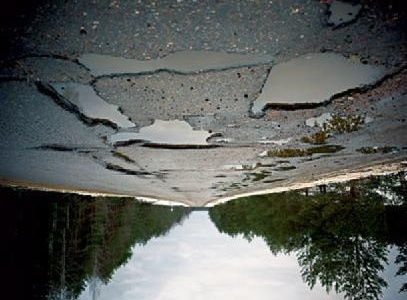pothole: (245, 48, 406, 122), (74, 46, 272, 82), (31, 80, 138, 131), (103, 115, 222, 148), (298, 111, 371, 146), (91, 147, 150, 178), (256, 146, 346, 162), (323, 0, 364, 32), (35, 141, 76, 154), (355, 145, 401, 156)
